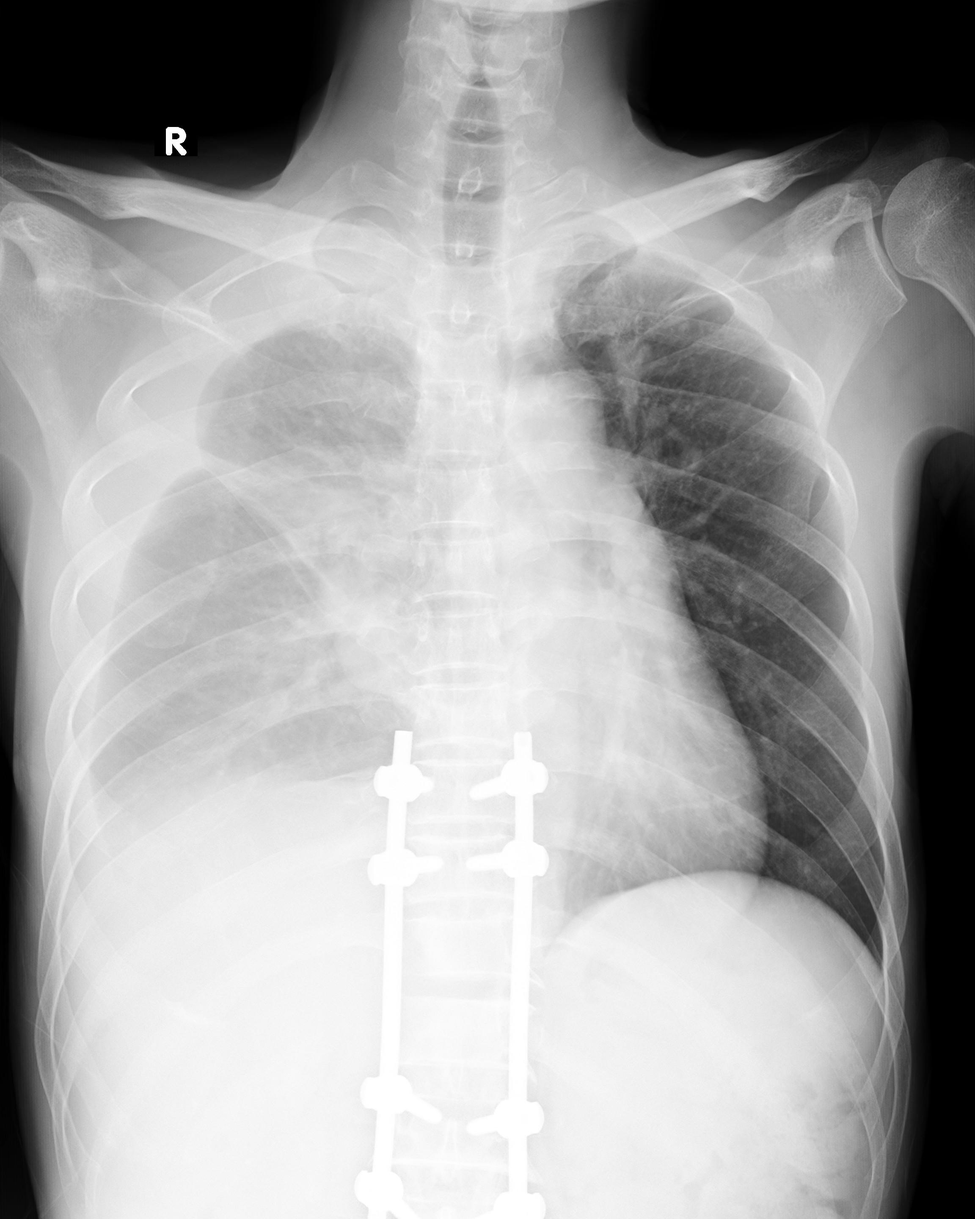Pulmonary fibrosis: (595, 261, 702, 430)
